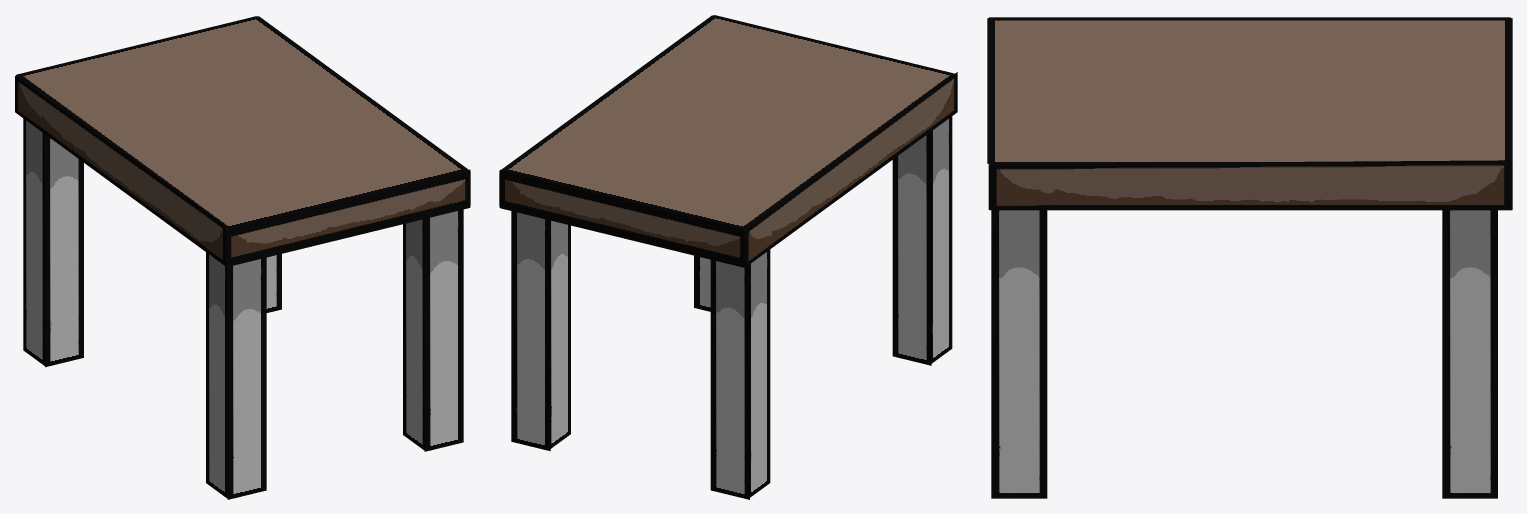
File: Meja Dosen.gltf
3 views of the same model, side by side, from view 1: azimuth 30°, elevation 25°; view 2: azimuth 150°, elevation 25°; view 3: azimuth 270°, elevation 25° (orthographic). The views are drawn at different scales.
Parts seen in each view (by area): view 1: default; view 2: default; view 3: default.
Boxes of the visible parts, <box> form: default: <box>15,16,470,499</box>; default: <box>499,15,957,499</box>; default: <box>987,17,1512,498</box>.
Bounding box in the file's own units: 27.5 × 29.5 × 41.12.
Materials: 1 (1 with a texture image).
